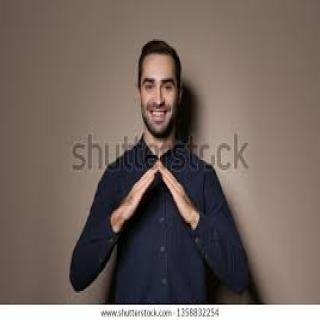House: (115, 153, 206, 232)
